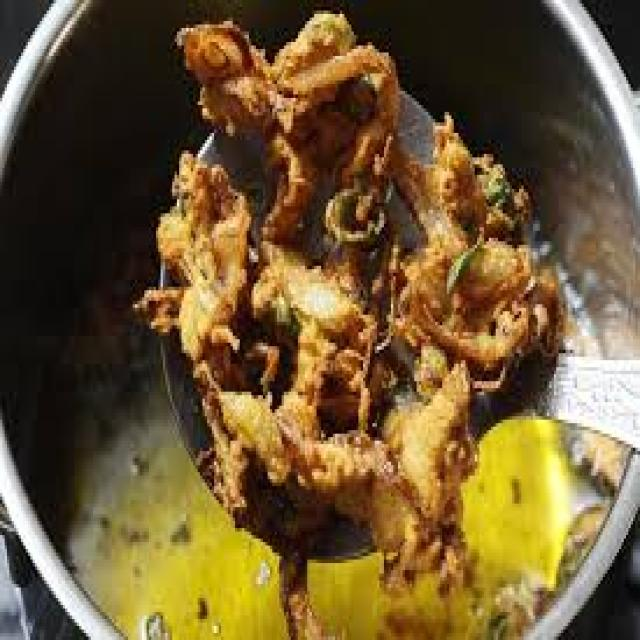BAJI: (141, 7, 567, 637)
